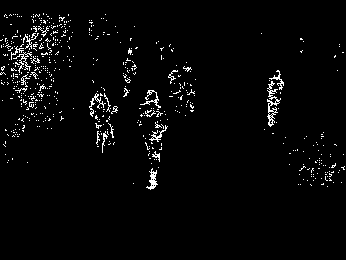person: (137, 89, 169, 187), (90, 87, 117, 150), (267, 69, 284, 129)
